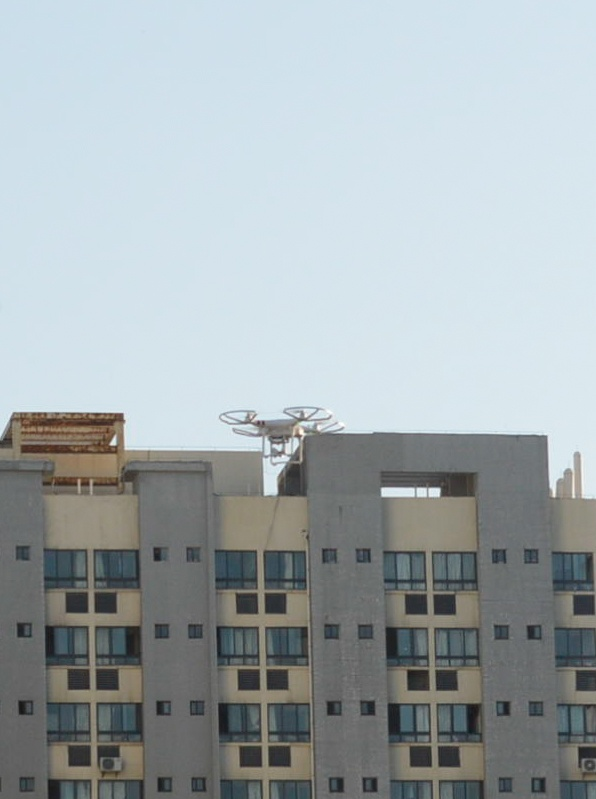DJI: (221, 405, 351, 470)
